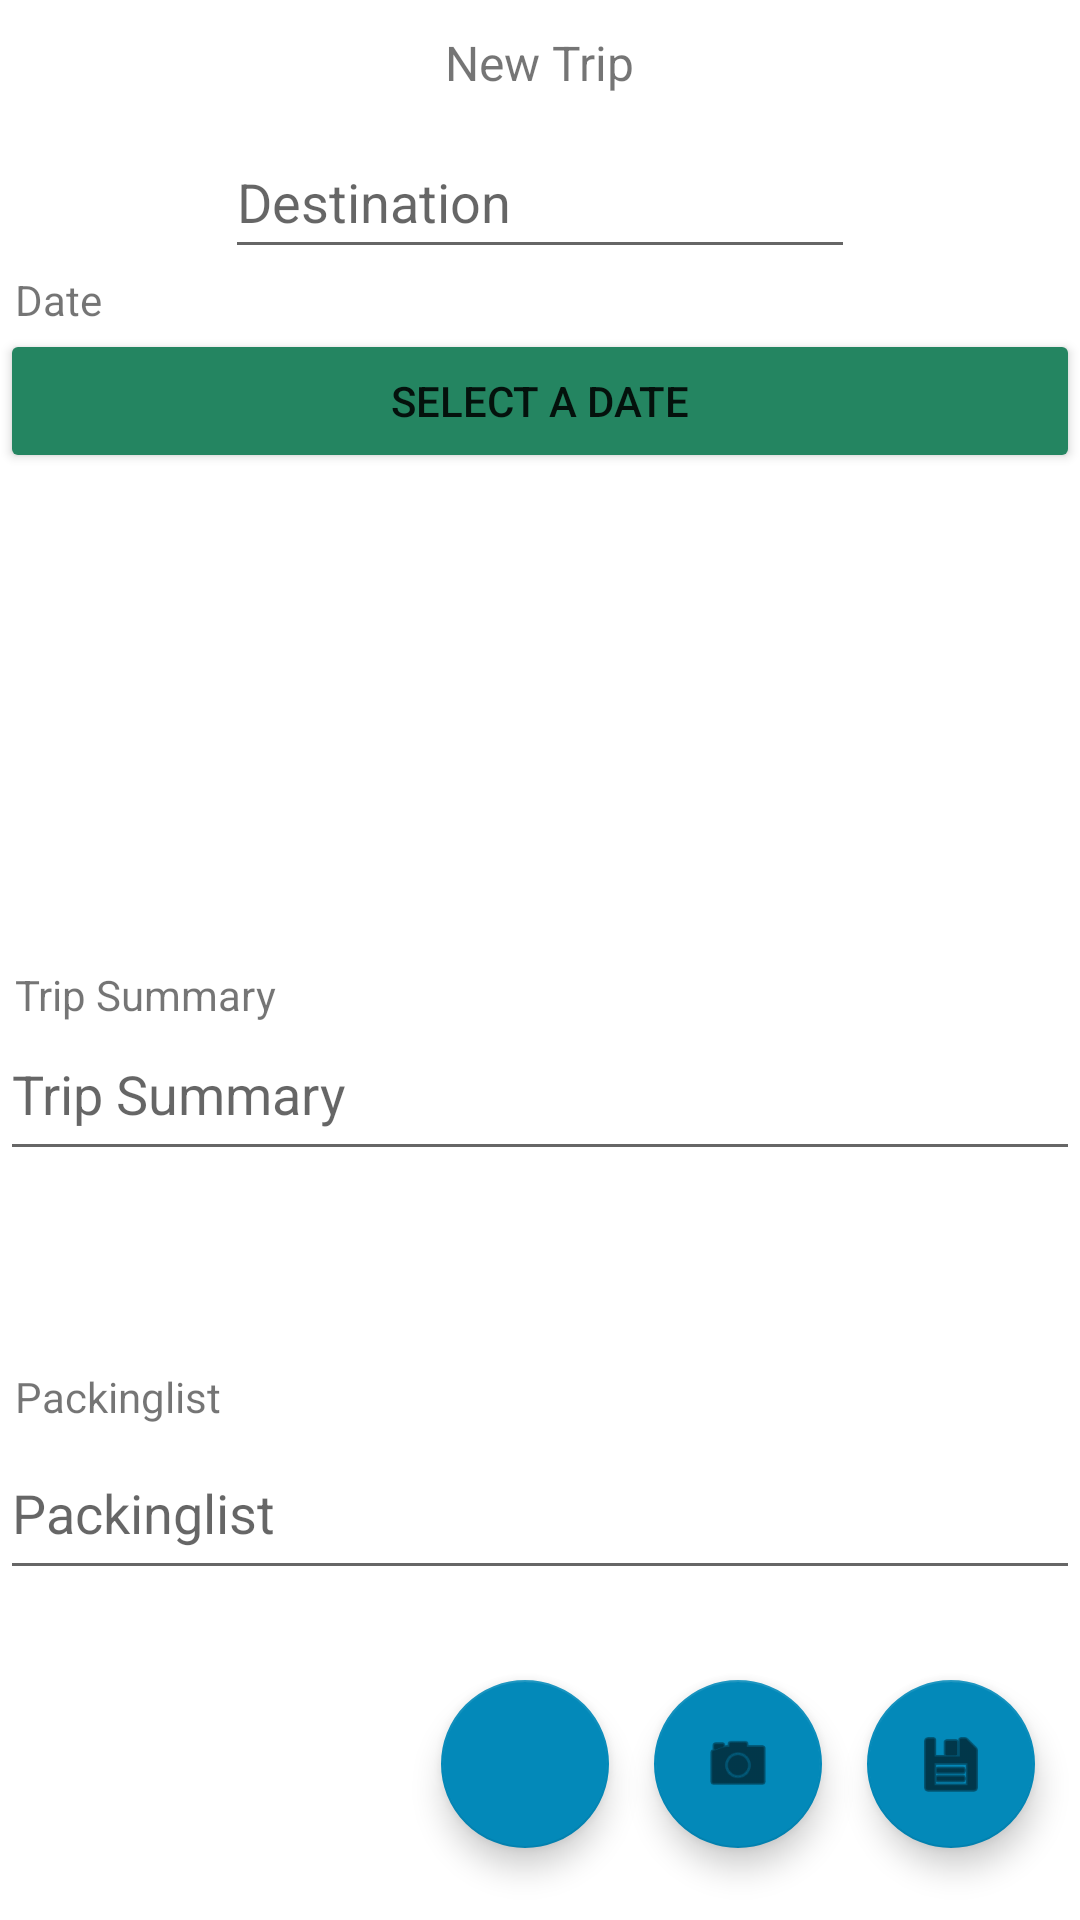

Screen size 1080 x 1920. Icon name, then its box in pixels as (x1, y1, x2, y2):
camera: (654, 1680, 822, 1848)
Save Trip: (867, 1680, 1035, 1848)
